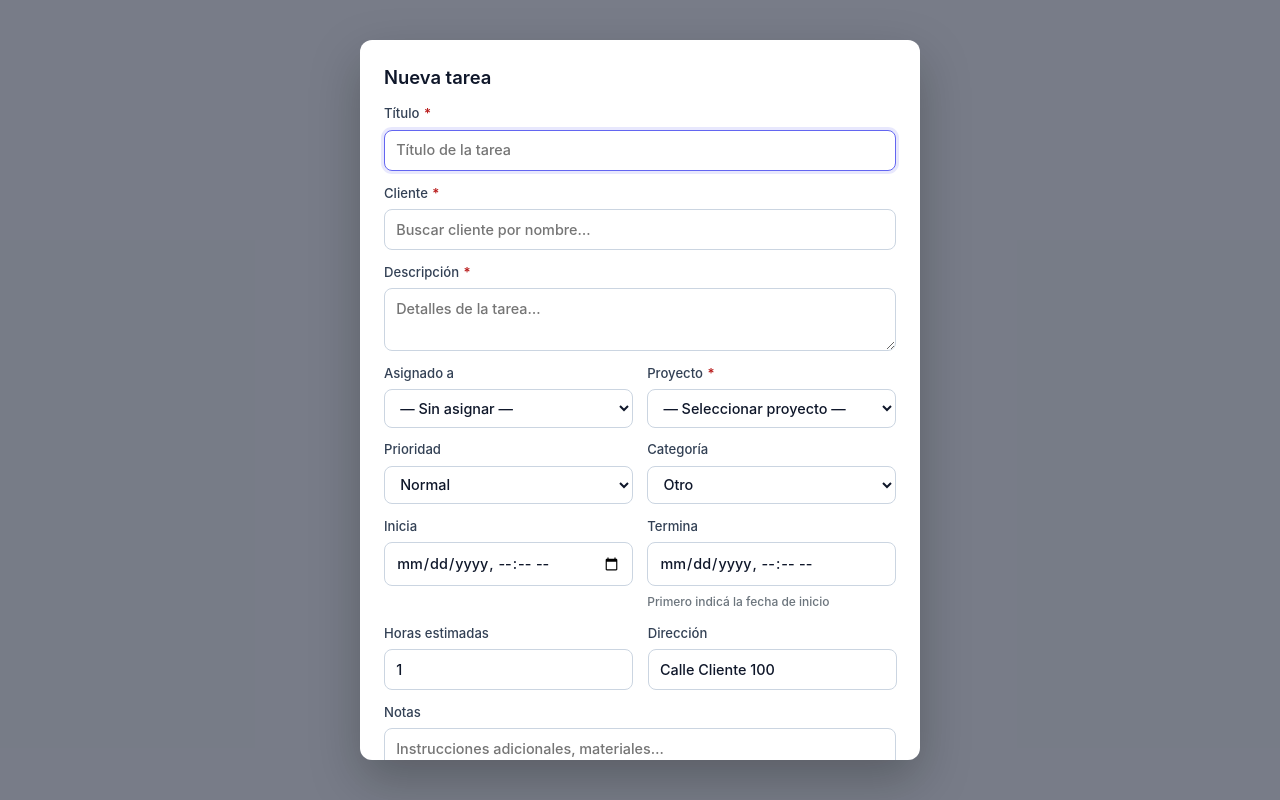
it: CreateTaskModal › auto-fills address from the selected contract (contract > customer precedence)
// Pick the customer
Type "Perez" into the field with placeholder "Buscar cliente por nombre…" at point(640, 230), box x1=384 y1=209 x2=896 y2=250
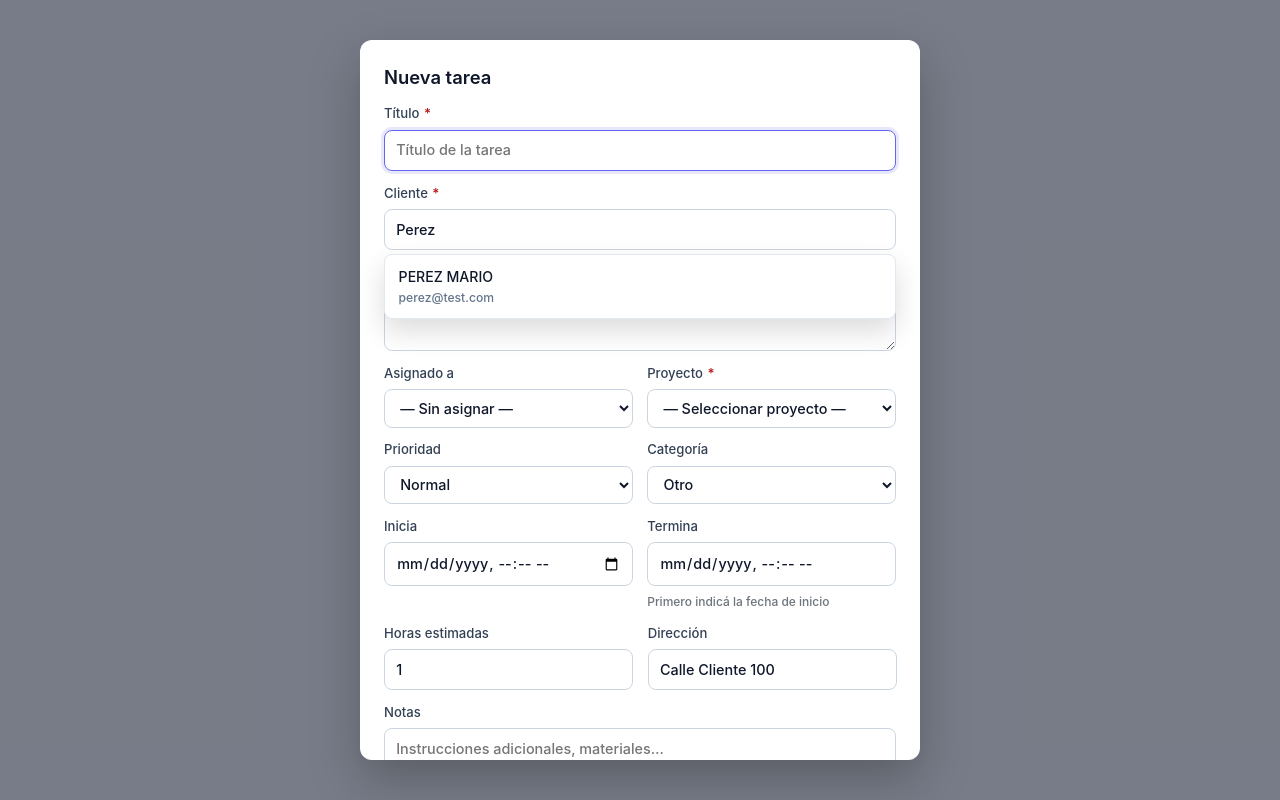
Click the text "PEREZ MARIO" at point(446, 277), box x1=399 y1=266 x2=493 y2=287
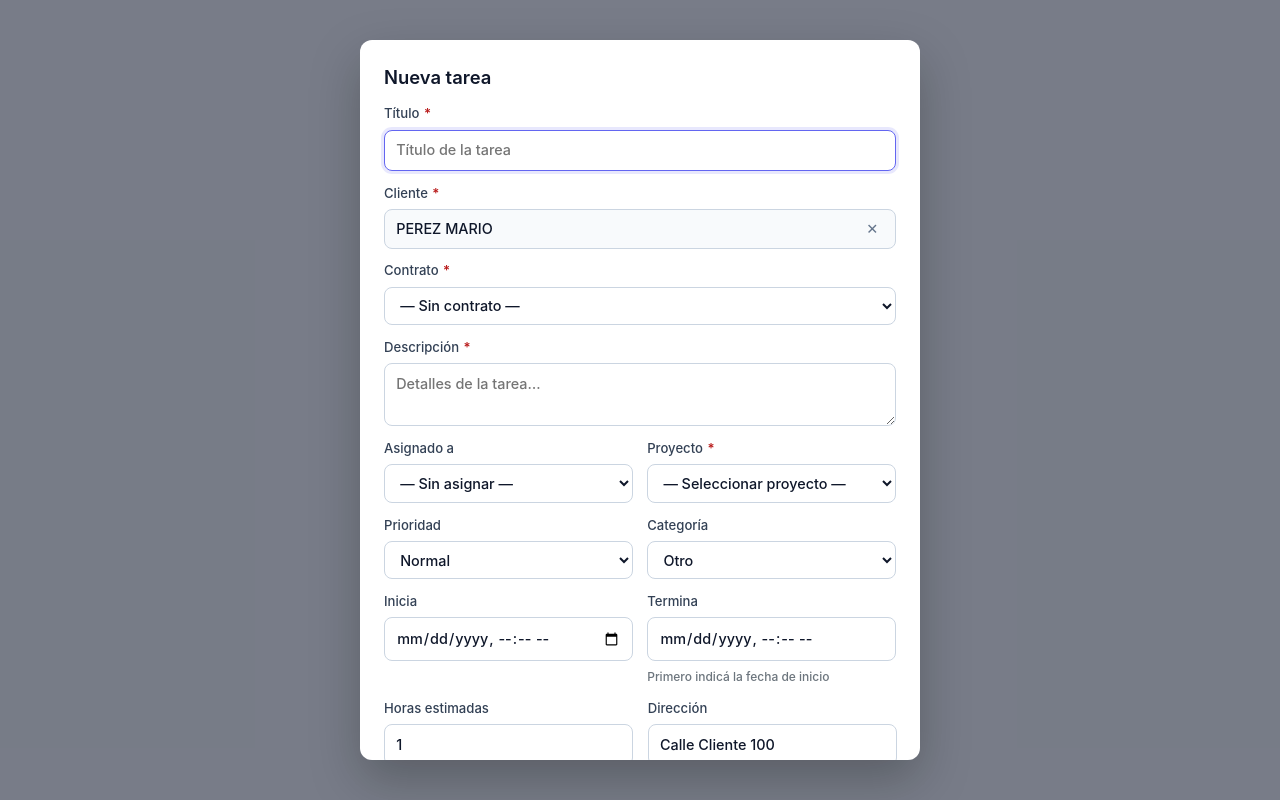
// The contract dropdown should now be visible — pick the contract
Select "Plan 100Mbps - Av. Servicio 999" in the dropdown labelled "Contrato *" at point(640, 306), box x1=384 y1=287 x2=896 y2=325
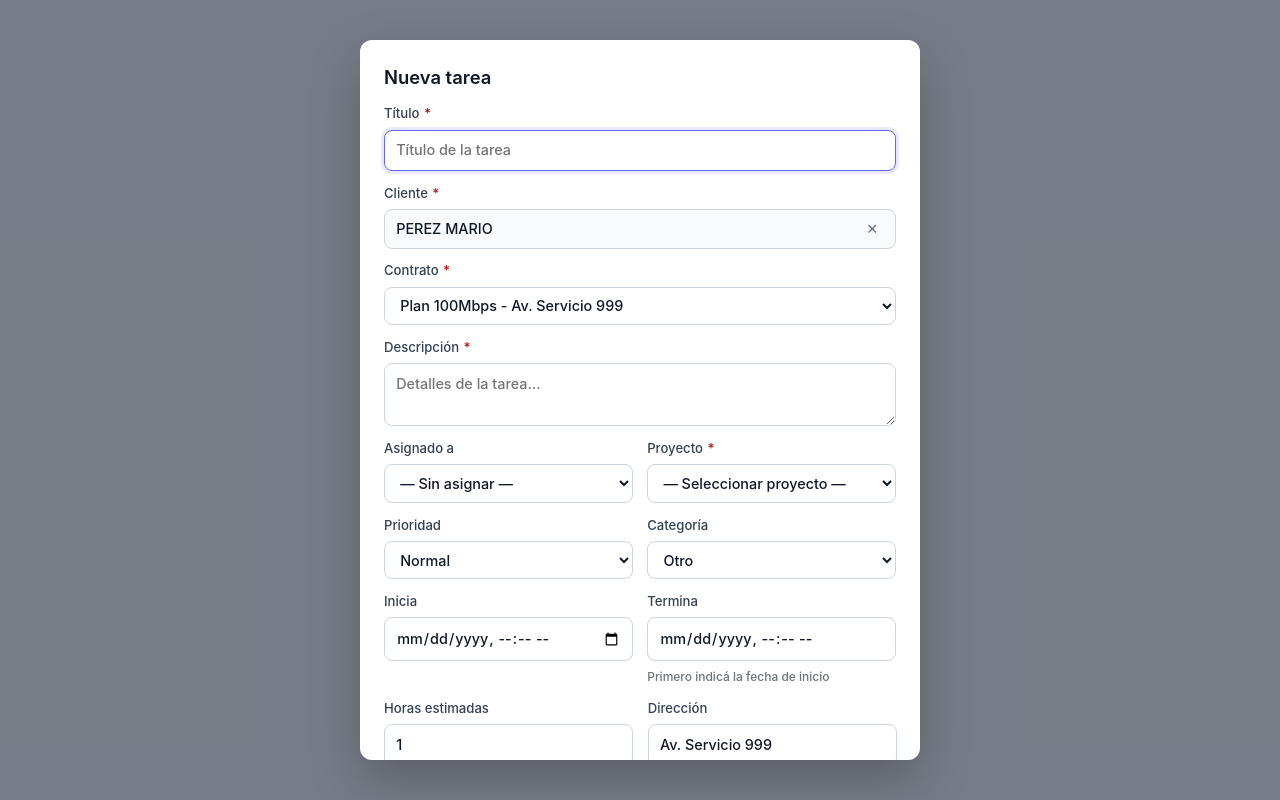
Check: the field with placeholder "Dirección del trabajo" holds "Av. Servicio 999", box x1=648 y1=724 x2=897 y2=760
